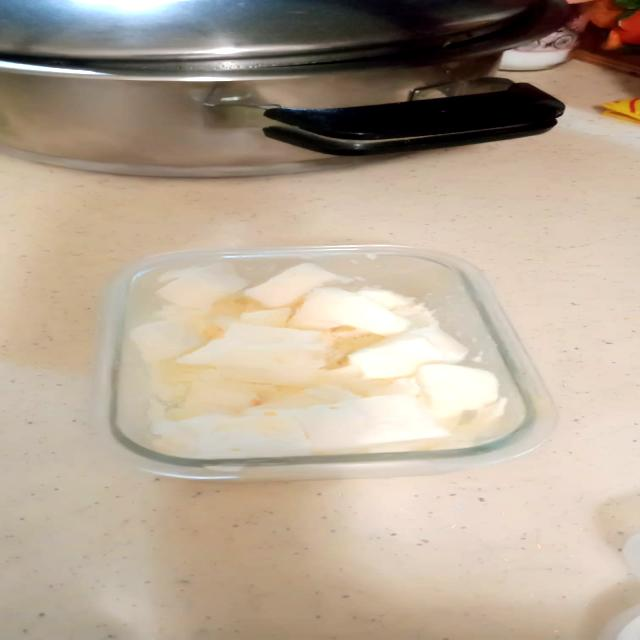cheese: (80, 229, 542, 486)
